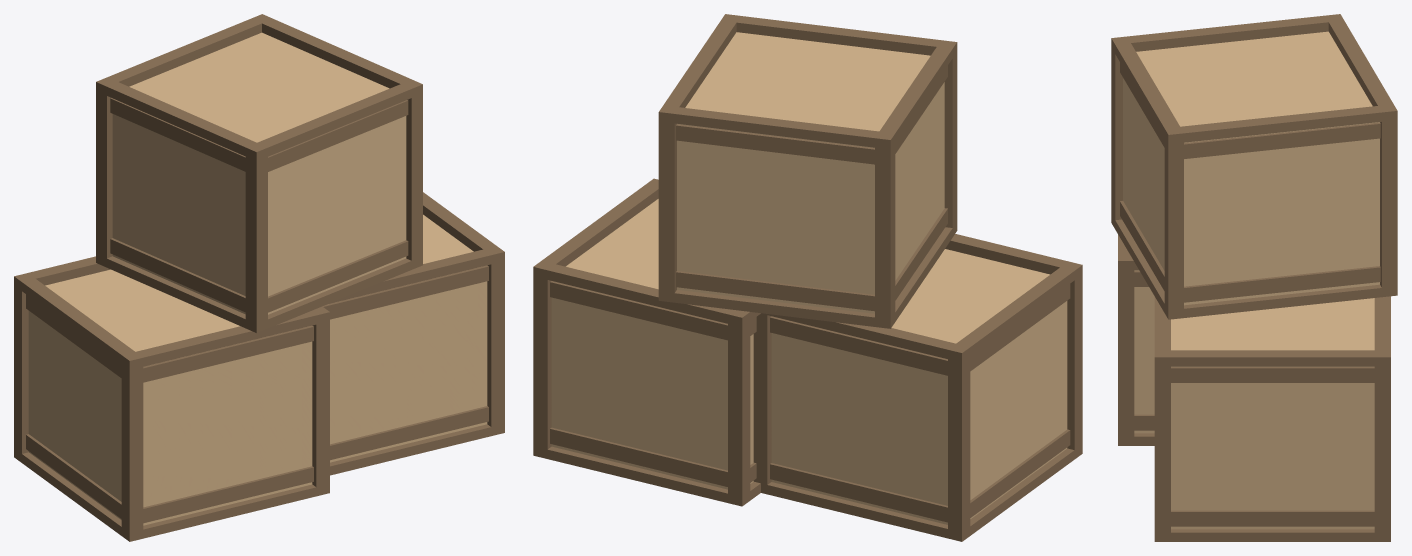
File: grotto_crate_pile.fbx
3 renders of one model, left to right at view 1: azimuth 30°, elevation 25°; view 2: azimuth 150°, elevation 25°; view 3: azimuth 270°, elevation 25°, orthographic. The views are drawn at different scales.
Parts seen in each view (by area): view 1: Crate_Wood.002, Crate_Wood, Crate_Wood.001, Crate_CornerPost_3, Crate_CornerPost_3.002, Crate_CornerPost_1.001, Crate_CornerPost_1, Crate_CornerPost_1.002, Crate_CornerPost_2.002, Crate_Band.005, Crate_Band.001, Crate_TopFrame.009 (+22 smaller); view 2: Crate_Wood.002, Crate_Wood, Crate_Wood.001, Crate_CornerPost_2, Crate_CornerPost_2.001, Crate_CornerPost_2.002, Crate_CornerPost_0.002, Crate_CornerPost_0.001, Crate_TopFrame.008, Crate_TopFrame.009, Crate_Band.016, Crate_Band.020 (+23 smaller); view 3: Crate_Wood.002, Crate_Wood.001, Crate_CornerPost_1.002, Crate_Band.010, Crate_TopFrame.006, Crate_CornerPost_0.002, Crate_TopFrame.010, Crate_TopFrame.011, Crate_Band.018, Crate_Band.022, Crate_Band.014, Crate_CornerPost_0.001 (+14 smaller).
Part boxes in pixels (x1,y1,x2,y2): Crate_Wood.002: [112, 32, 406, 314]; Crate_Wood: [28, 269, 312, 525]; Crate_Wood.001: [330, 214, 487, 462]; Crate_CornerPost_3: [121, 352, 143, 541]; Crate_CornerPost_3.002: [245, 143, 267, 332]; Crate_CornerPost_1.001: [483, 246, 504, 435]; Crate_CornerPost_1: [311, 306, 329, 496]; Crate_CornerPost_1.002: [401, 79, 422, 269]; Crate_CornerPost_2.002: [96, 77, 117, 267]; Crate_Band.005: [143, 325, 313, 382]; Crate_Band.001: [143, 466, 313, 523]; Crate_TopFrame.009: [257, 84, 411, 156]; Crate_Wood.002: [677, 32, 944, 313]; Crate_Wood: [771, 249, 1067, 524]; Crate_Wood.001: [551, 199, 753, 489]; Crate_CornerPost_2: [948, 343, 970, 541]; Crate_CornerPost_2.001: [728, 310, 750, 506]; Crate_CornerPost_2.002: [875, 131, 895, 328]; Crate_CornerPost_0.002: [658, 105, 678, 302]; Crate_CornerPost_0.001: [533, 261, 555, 458]; Crate_TopFrame.008: [674, 107, 879, 147]; Crate_TopFrame.009: [736, 16, 940, 55]; Crate_Band.016: [676, 271, 874, 311]; Crate_Band.020: [676, 124, 874, 164]; Crate_Wood.002: [1123, 31, 1379, 305]; Crate_Wood.001: [1171, 298, 1374, 529]; Crate_CornerPost_1.002: [1164, 126, 1183, 319]; Crate_Band.010: [1171, 510, 1374, 526]; Crate_TopFrame.006: [1171, 350, 1374, 366]; Crate_CornerPost_0.002: [1378, 104, 1397, 297]; Crate_TopFrame.010: [1180, 106, 1381, 142]; Crate_TopFrame.011: [1127, 15, 1328, 51]; Crate_Band.018: [1184, 266, 1380, 302]; Crate_Band.022: [1184, 122, 1380, 158]; Crate_Band.014: [1171, 367, 1374, 382]; Crate_CornerPost_0.001: [1374, 350, 1390, 541].
Size of the model in its own units: 632 by 556 by 390.
